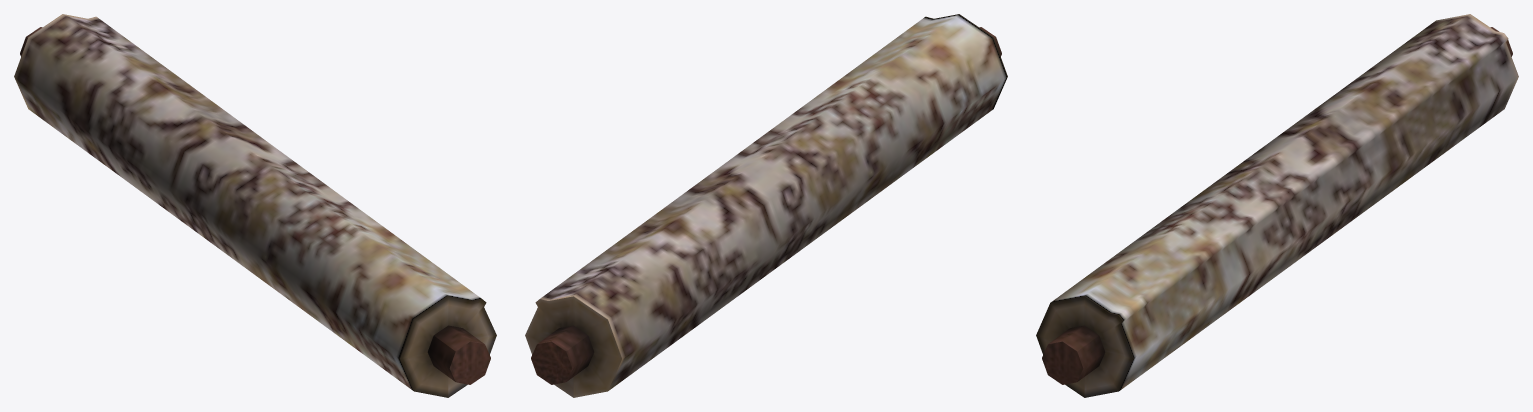
Rendered from Scroll2.FBX.
3 views of the same model, side by side, from view 1: azimuth 30°, elevation 25°; view 2: azimuth 150°, elevation 25°; view 3: azimuth 330°, elevation 25° (orthographic).
Visible parts, largest first — view 1: scroll2; view 2: scroll2; view 3: scroll2.
Part boxes in pixels (left/top/right/bottom): scroll2: left=14, top=14, right=496, bottom=397; scroll2: left=525, top=14, right=1007, bottom=397; scroll2: left=1036, top=14, right=1518, bottom=397.
Bounding box in the file's own units: 3.01 × 3.01 × 23.11.
